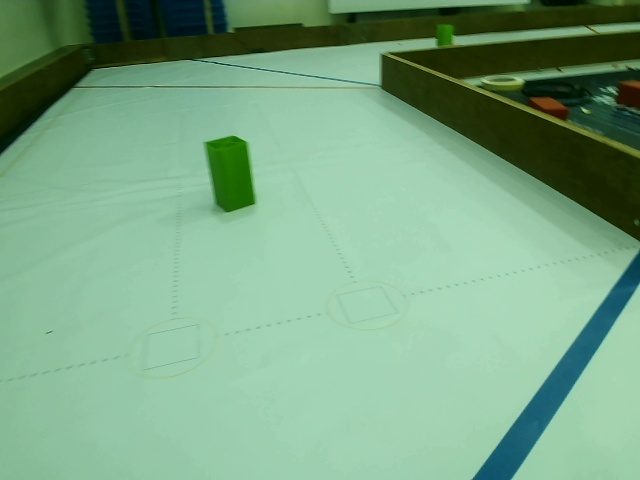green: (205, 137, 259, 210)
